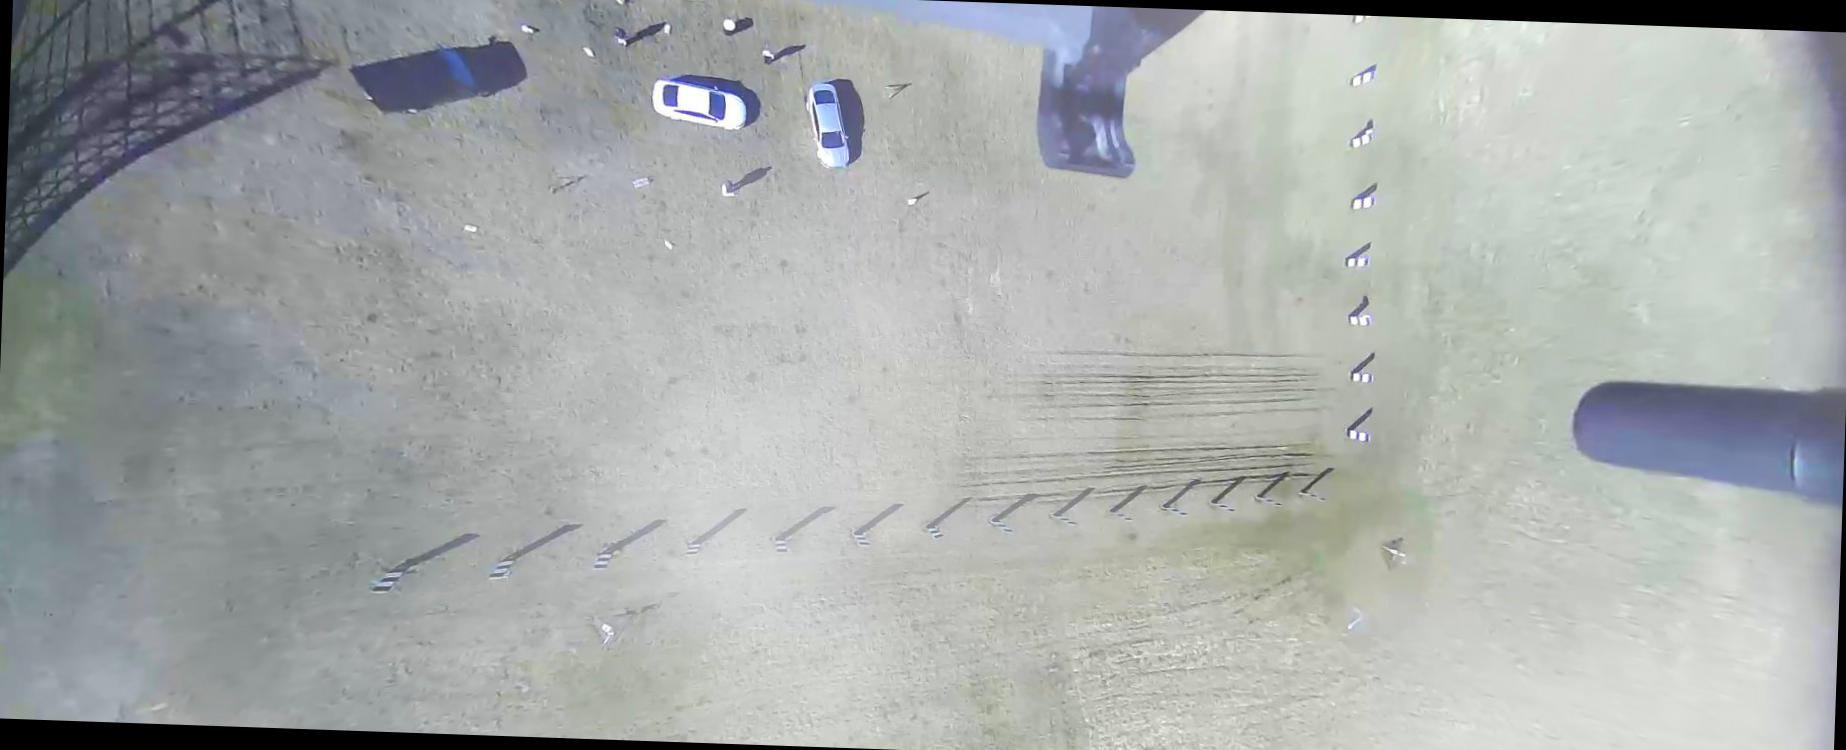vehicle: (346, 39, 514, 117), (650, 78, 748, 130), (801, 81, 852, 171)
